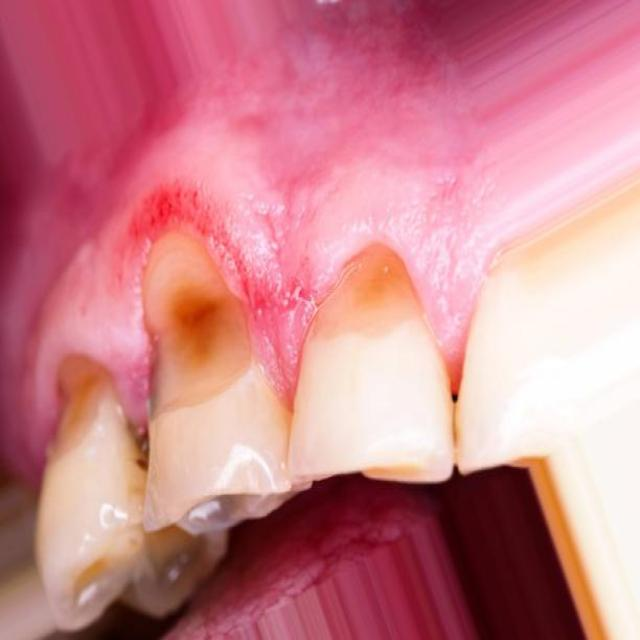caries: (132, 227, 255, 485), (306, 231, 433, 375), (34, 345, 109, 482), (133, 510, 224, 606)
